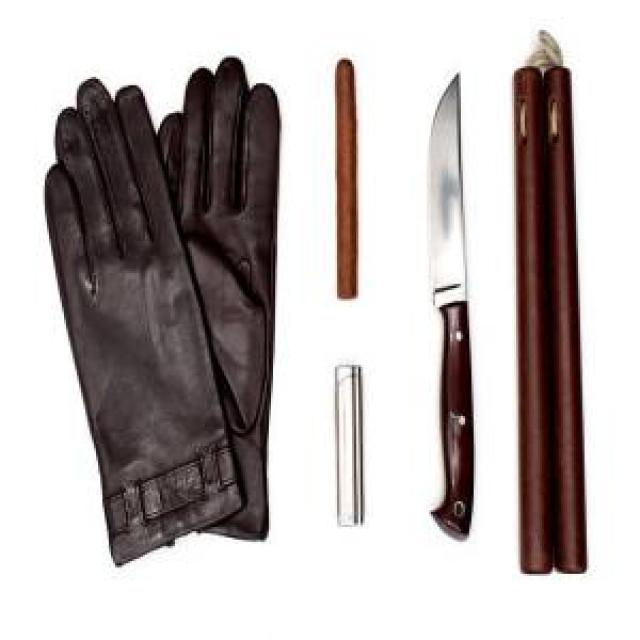knife: (429, 73, 478, 544)
